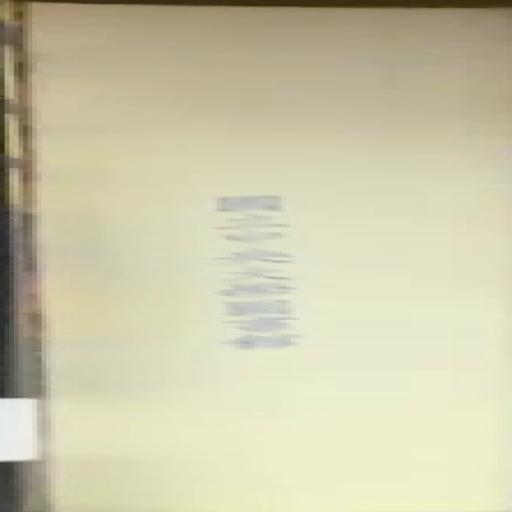backward: (1, 1, 508, 512)
